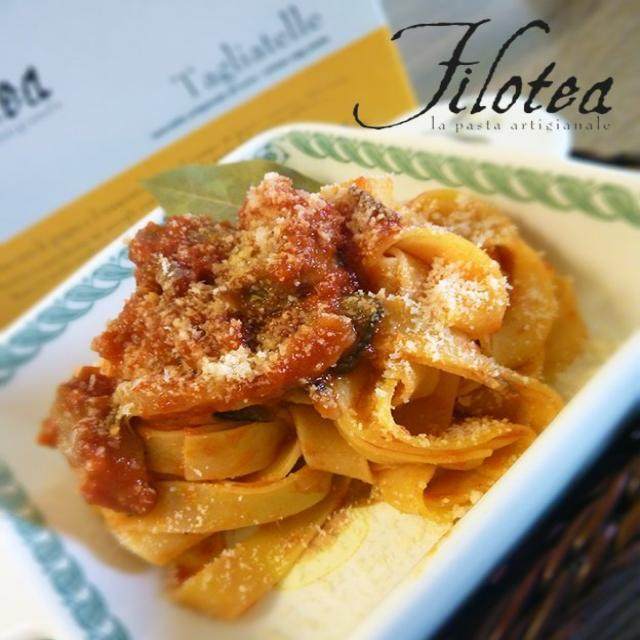Pasta al ragu: (61, 141, 578, 587)
